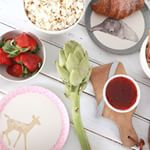cups: (100, 72, 142, 114)
